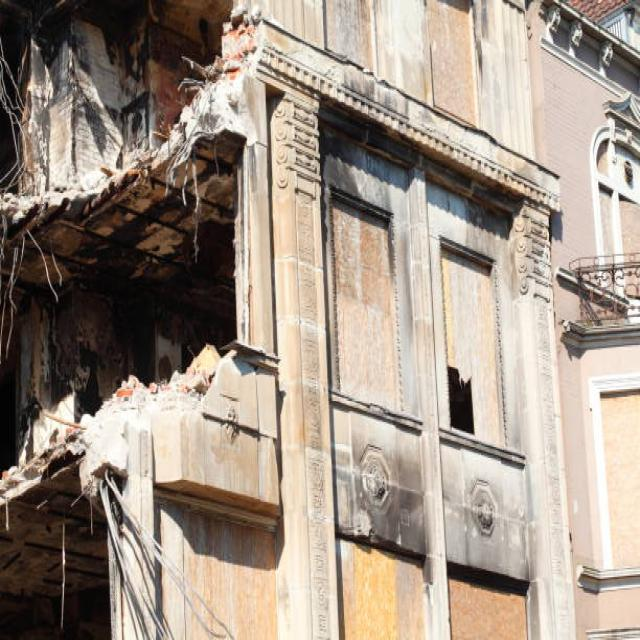Destroyed_building: (1, 0, 436, 640)
